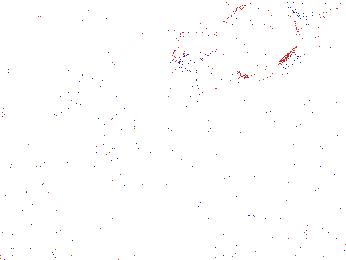moon jellyfish: (218, 1, 306, 81), (31, 11, 110, 76), (168, 22, 241, 75), (296, 1, 346, 62)
